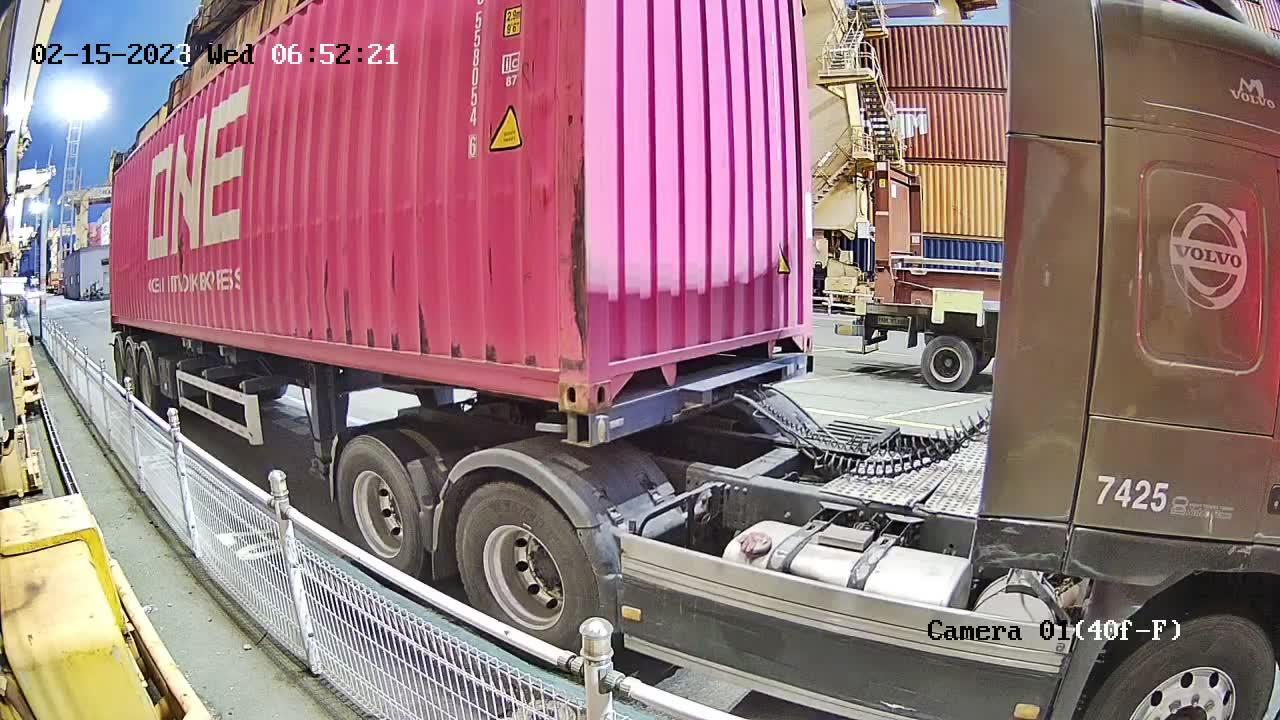Chassis: (592, 353, 813, 448)
Cone: (555, 412, 591, 453)
Hole_L: (591, 324, 657, 406)
Hole_R: (521, 336, 592, 407), (767, 300, 815, 356)
Tire: (455, 483, 599, 649), (336, 440, 416, 570)
